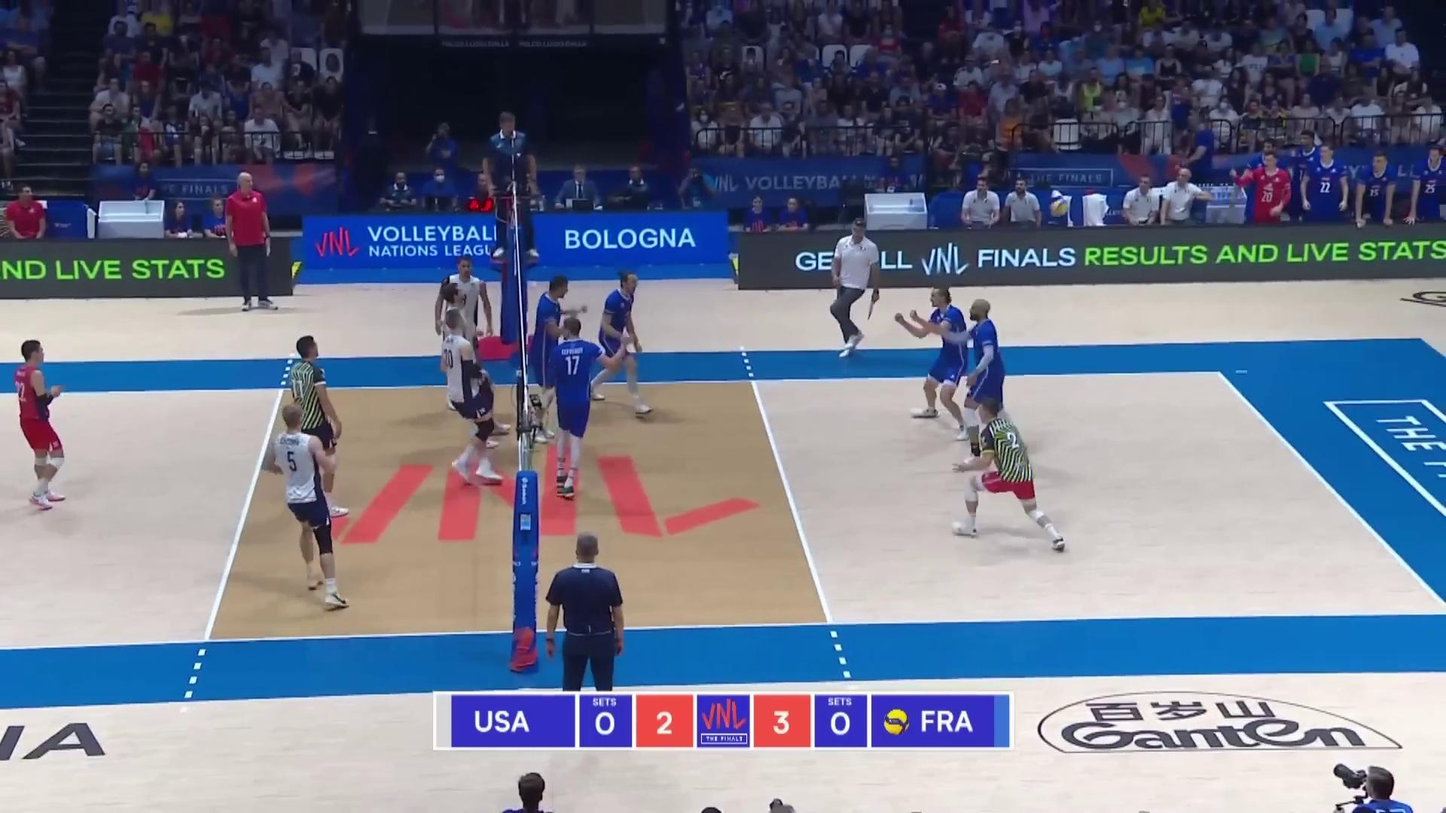player: (257, 402, 350, 607), (950, 400, 1066, 550), (280, 335, 348, 510), (441, 285, 513, 449), (439, 310, 507, 483), (898, 286, 970, 439), (544, 318, 604, 499), (957, 293, 1012, 471), (14, 338, 69, 508), (438, 255, 493, 413), (533, 273, 581, 443), (597, 275, 650, 420)
refree: (542, 536, 631, 697), (485, 110, 533, 258)
